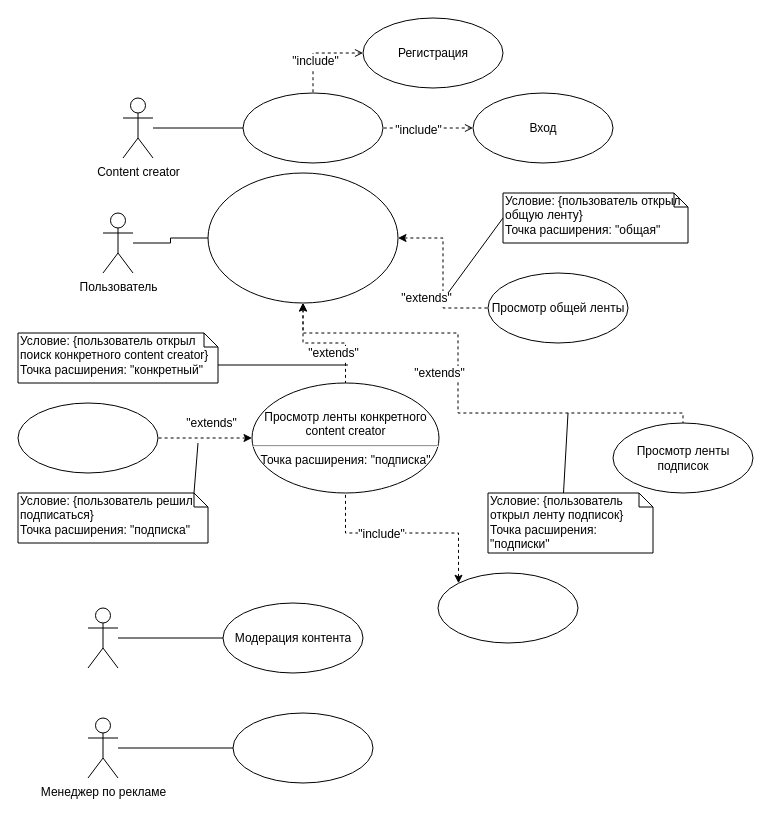
The diagram is 770 pixels wide and 816 high, and some of its shapes have lost their labels. The centre of each missing label's shape, as x and y in pixels:
Загрузка контента: pixel 312 127
Загрузка рекламного поста: pixel 302 747
Модератор: pixel 102 637
Подписка на данного content creator: pixel 87 437
Поиск конкретного content creator: pixel 507 607
Просмотр контента Точки расширения: "общая" "подписки" "конкретный": pixel 302 237
